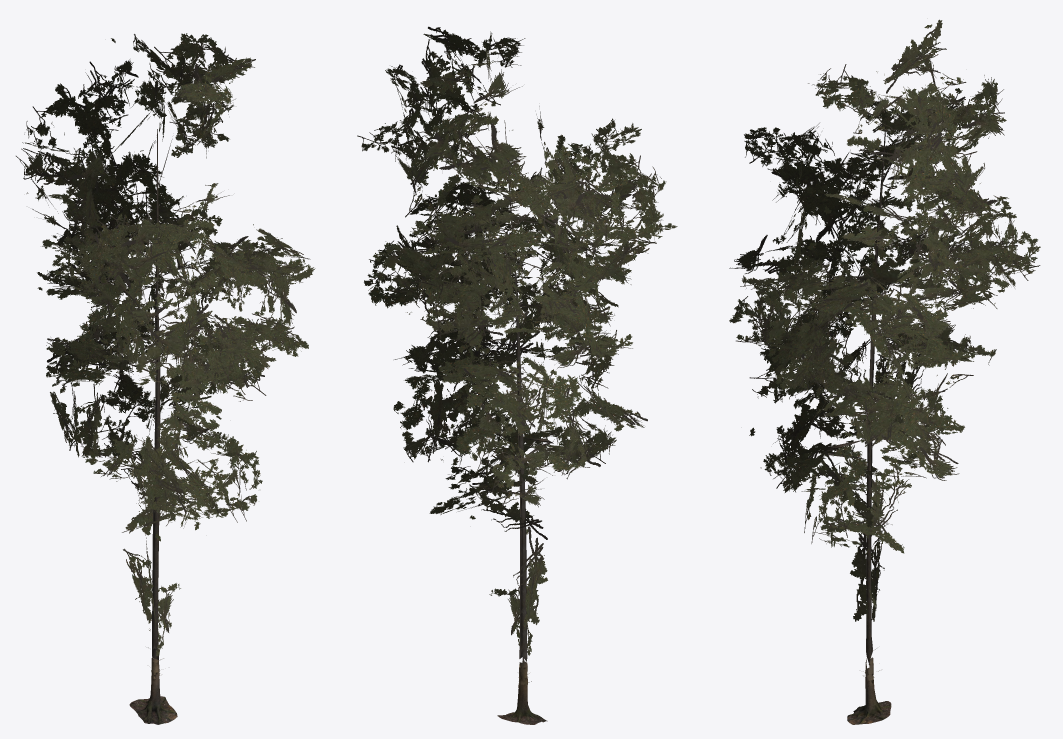
3 views of the same model, side by side, from view 1: azimuth 30°, elevation 25°; view 2: azimuth 150°, elevation 25°; view 3: azimuth 270°, elevation 25° (orthographic). The views are drawn at different scales.
Visible parts, largest first — view 1: pine_tree_01__a_lod2; view 2: pine_tree_01__a_lod2; view 3: pine_tree_01__a_lod2.
Boxes of the visible parts, bbox=[...] form: pine_tree_01__a_lod2: bbox=[16, 33, 315, 724]; pine_tree_01__a_lod2: bbox=[357, 26, 677, 724]; pine_tree_01__a_lod2: bbox=[729, 19, 1040, 724].
Size of the model in its own units: 8.35 by 20.52 by 8.81.
3 materials, 3 textured.
